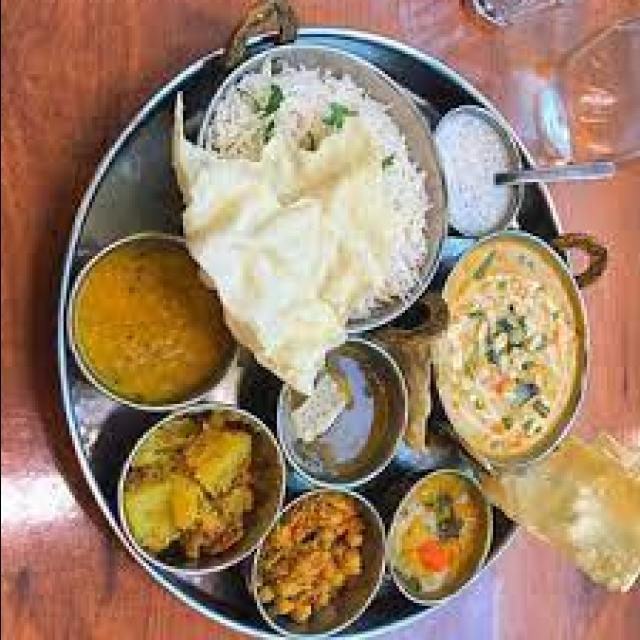curd: (271, 342, 404, 490)
papad: (529, 437, 637, 586)
veg-fry: (431, 238, 585, 480), (380, 471, 491, 605)
